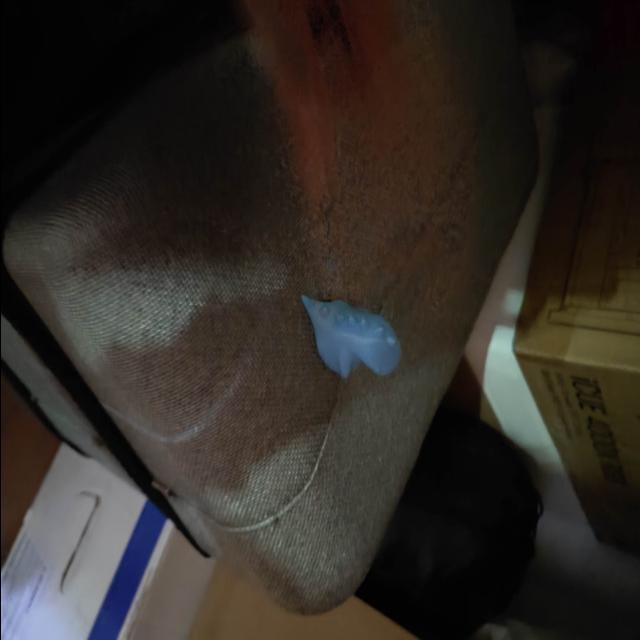DINO: (302, 263, 414, 385)
